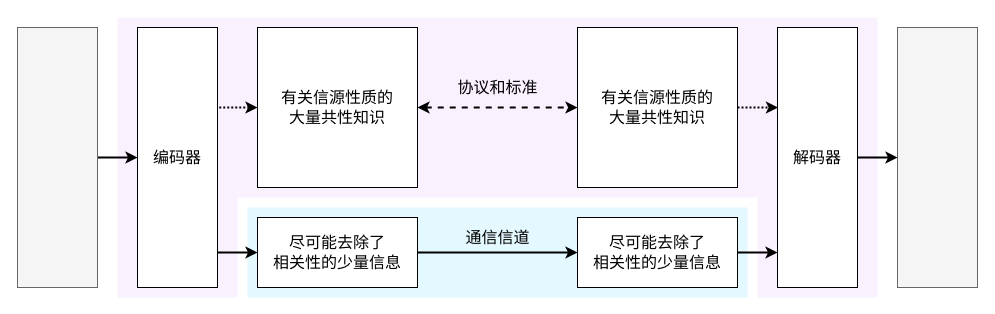
Some shapes in this 995 by 314 pixel diagram are drawn without their labels. Here are the shapes that lost their labels. From the top down, the centre of each, then its label:
the point at 57,157: 信源
the point at 937,157: 信宿
